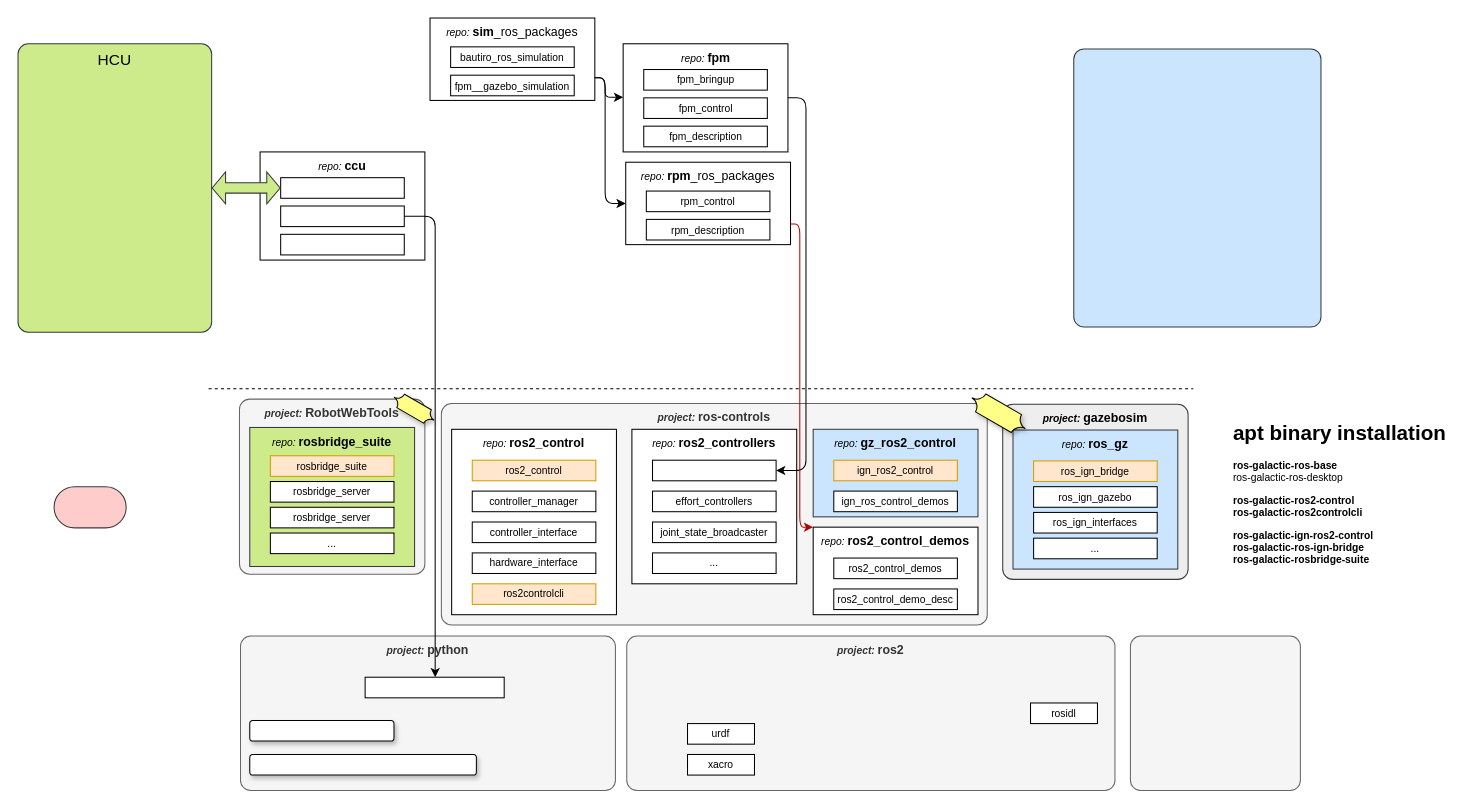
Image size: 1478x809. Some labels were removed from this diagram. The centre of each missing label's shape, as x and y in pixels:
ccu_demo_nodes: the point at 342,244
ccu_main: the point at 342,187
ccu_taskplan: the point at 342,216
diff_drive_controller: the point at 713,470
galactic: the point at 999,414
Page2: the point at 89,507
project: CycloneDDS: the point at 1214,713
python-lxml: the point at 434,687
python3-colcon-common-extensions: the point at 364,765
python3-rosdep2: the point at 322,731
ros2: the point at 415,409
Simulation: Ignition gazebo: the point at 1197,187
